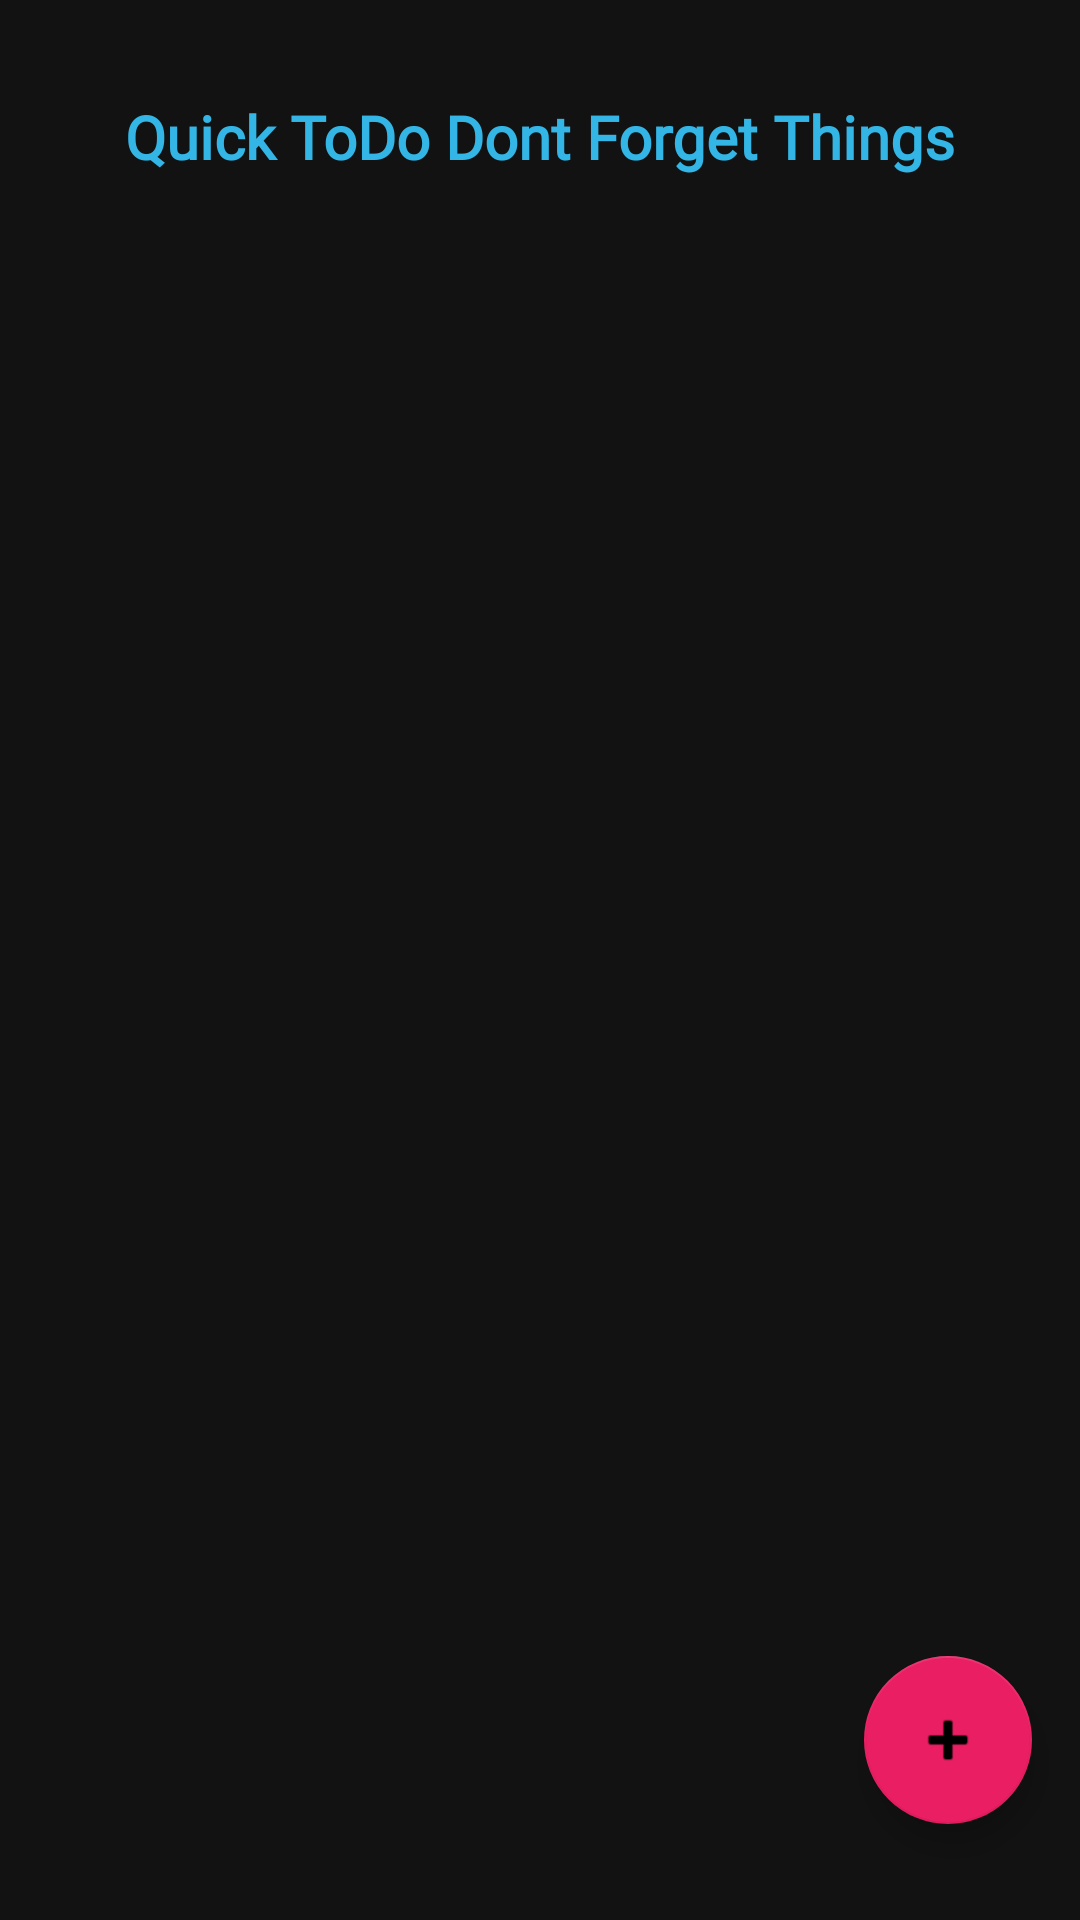

Icon click points for this 1080x1920 phone screenshot, format point (x, y):
add: point (948, 1740)
